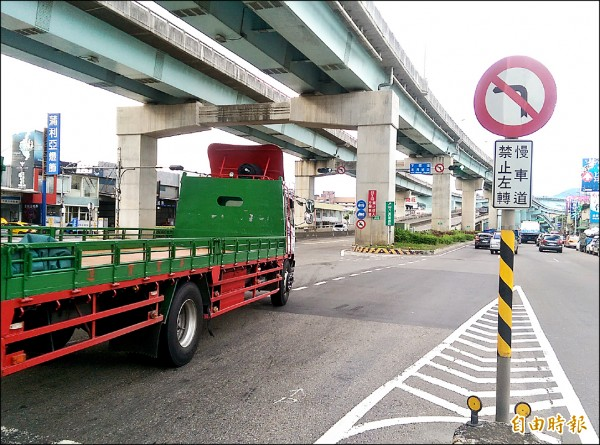No_left_turn: (472, 55, 557, 137)
